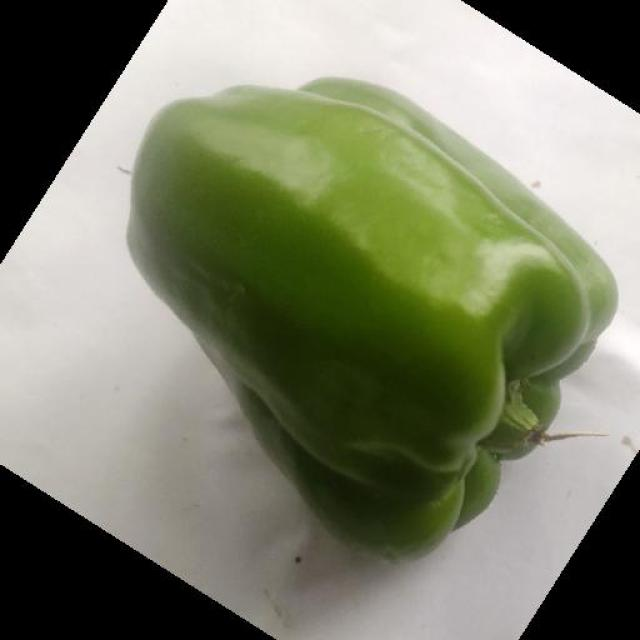Fresh_Capsicum: (155, 110, 593, 451)
